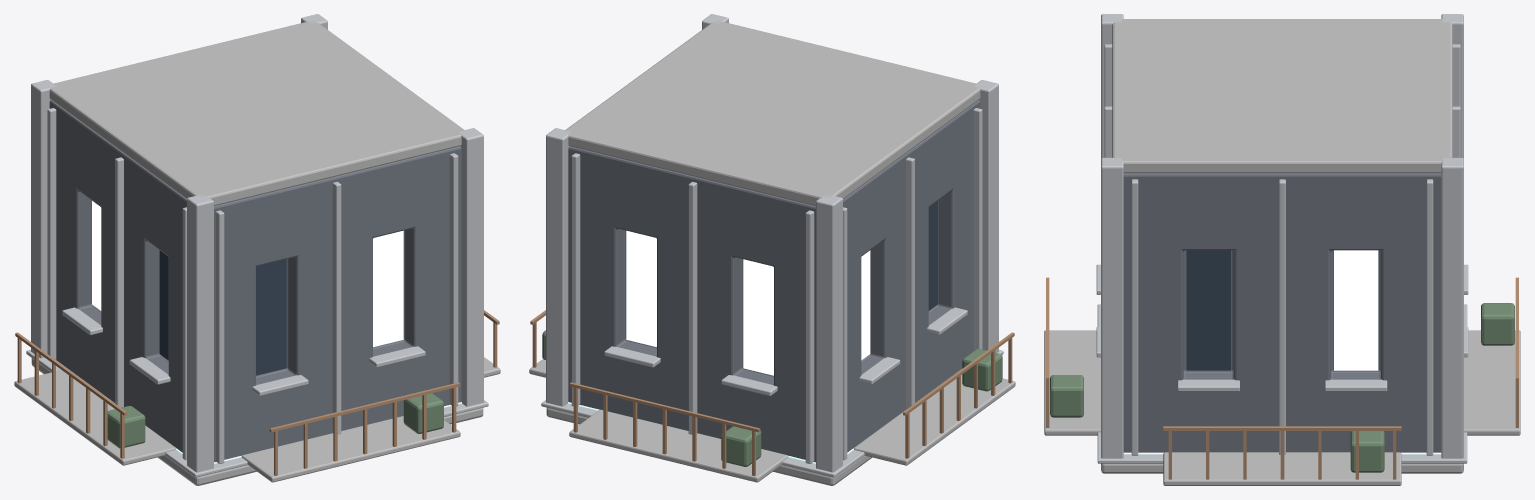
File: res_3x3.glb
3 views of the same model, side by side, from view 1: azimuth 30°, elevation 25°; view 2: azimuth 150°, elevation 25°; view 3: azimuth 270°, elevation 25° (orthographic). The views are drawn at different scales.
Parts seen in each view (by area): view 1: ext_wall, int_ceiling, int_columns, ext_frames, ext_balcony3, ext_panes_dark, ext_panes_lit, ext_balcony2, ext_rail3, ext_rail2, ext_plant2, ext_plant3 (+2 smaller); view 2: ext_wall, int_ceiling, int_columns, ext_frames, ext_panes_lit, ext_balcony1, ext_balcony2, ext_rail1, ext_rail2, ext_plant1, int_slab, int_slab_edge (+2 smaller); view 3: ext_wall, int_ceiling, int_columns, ext_frames, ext_balcony0, ext_panes_lit, ext_panes_dark, ext_balcony1, ext_balcony3, ext_rail0, int_slab_edge, ext_plant3 (+5 smaller).
Part boxes in pixels (x1=…): ext_wall: x1=49, y1=100, x2=461, y2=462; int_ceiling: x1=49, y1=20, x2=466, y2=206; int_columns: x1=31, y1=14, x2=483, y2=472; ext_frames: x1=47, y1=108, x2=458, y2=463; ext_balcony3: x1=241, y1=416, x2=460, y2=482; ext_panes_dark: x1=159, y1=250, x2=286, y2=375; ext_panes_lit: x1=92, y1=201, x2=403, y2=346; ext_balcony2: x1=14, y1=369, x2=175, y2=465; ext_rail3: x1=269, y1=382, x2=460, y2=475; ext_rail2: x1=15, y1=332, x2=126, y2=458; ext_plant2: x1=107, y1=406, x2=145, y2=448; ext_plant3: x1=403, y1=393, x2=443, y2=433; ext_wall: x1=568, y1=100, x2=980, y2=462; int_ceiling: x1=565, y1=20, x2=980, y2=206; int_columns: x1=546, y1=14, x2=998, y2=472; ext_frames: x1=571, y1=108, x2=982, y2=463; ext_panes_lit: x1=626, y1=230, x2=870, y2=375; ext_balcony1: x1=569, y1=409, x2=788, y2=482; ext_balcony2: x1=854, y1=369, x2=1015, y2=465; ext_rail1: x1=569, y1=382, x2=760, y2=475; ext_rail2: x1=903, y1=332, x2=1014, y2=458; ext_plant1: x1=721, y1=426, x2=761, y2=466; int_slab: x1=546, y1=408, x2=871, y2=485; int_slab_edge: x1=541, y1=349, x2=1003, y2=477; ext_wall: x1=1123, y1=173, x2=1441, y2=452; int_ceiling: x1=1112, y1=19, x2=1452, y2=173; int_columns: x1=1101, y1=14, x2=1463, y2=458; ext_frames: x1=1096, y1=44, x2=1468, y2=455; ext_balcony0: x1=1163, y1=452, x2=1401, y2=485; ext_panes_lit: x1=1334, y1=250, x2=1378, y2=370; ext_panes_dark: x1=1186, y1=250, x2=1230, y2=370; ext_balcony1: x1=1464, y1=330, x2=1520, y2=435; ext_balcony3: x1=1044, y1=330, x2=1100, y2=435; ext_rail0: x1=1163, y1=426, x2=1401, y2=479; int_slab_edge: x1=1097, y1=304, x2=1467, y2=463; ext_plant3: x1=1050, y1=375, x2=1083, y2=417.
Bounding box in the file's own units: 4.2 × 3 × 4.2.
